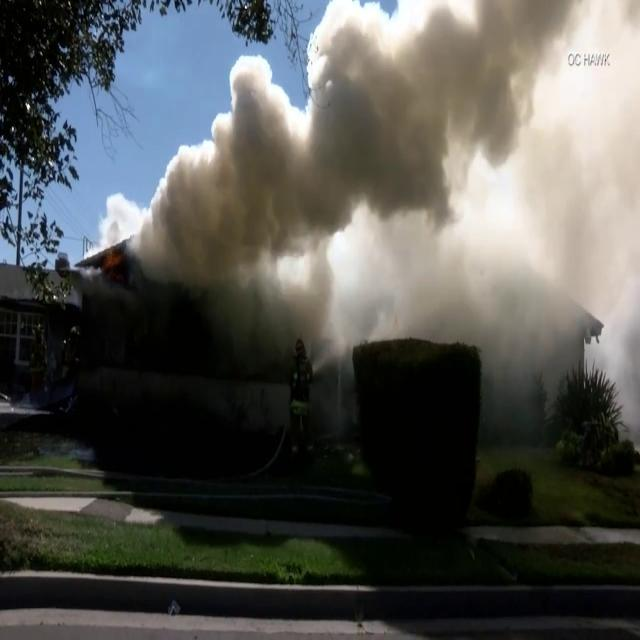Smoke: (111, 1, 640, 410)
